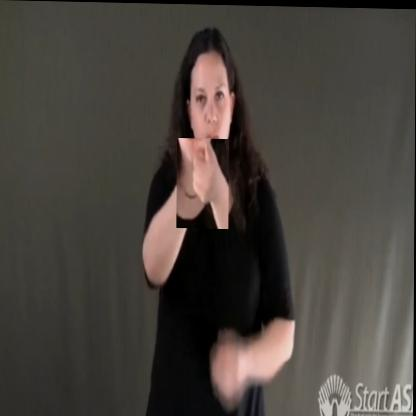HowAreYou: (177, 137, 229, 228)
